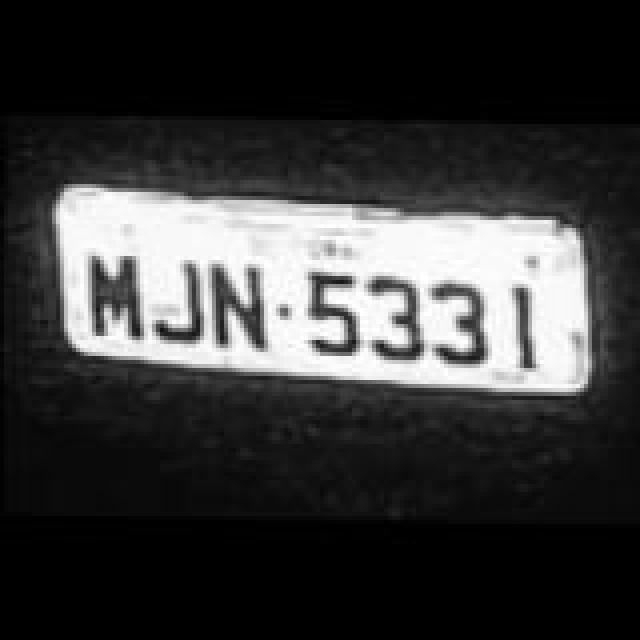1: (506, 284, 546, 372)
3: (358, 272, 430, 364), (426, 278, 498, 366)
5: (300, 270, 368, 362)
J: (146, 252, 210, 344)
M: (80, 248, 148, 344)
N: (206, 258, 278, 354)
